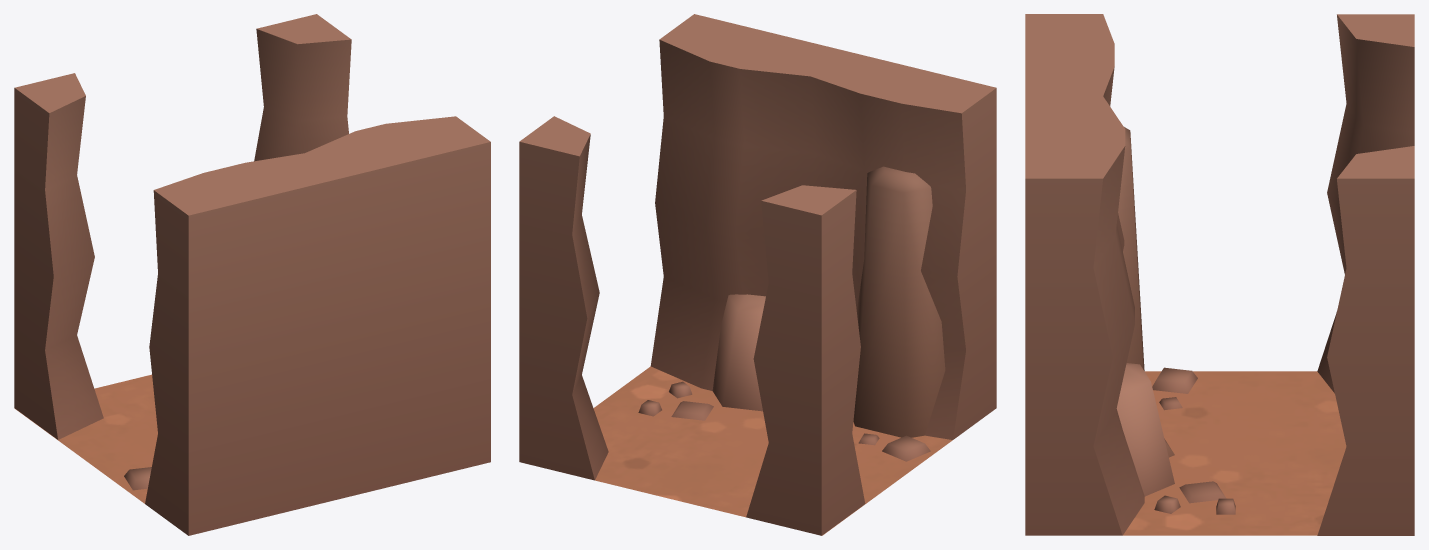
File: corridor-junction.obj
3 renders of one model, left to right at view 1: azimuth 30°, elevation 25°; view 2: azimuth 150°, elevation 25°; view 3: azimuth 270°, elevation 25°, orthographic. The views are drawn at different scales.
Visible parts, largest first — view 1: corridor-junction; view 2: corridor-junction; view 3: corridor-junction.
Boxes of the visible parts, x1=… form: corridor-junction: x1=14, y1=14, x2=490, y2=535; corridor-junction: x1=519, y1=14, x2=996, y2=535; corridor-junction: x1=1025, y1=14, x2=1414, y2=535.
Bounding box in the file's own units: 4.01 × 4.05 × 4.
Materials: 1 (1 with a texture image).
